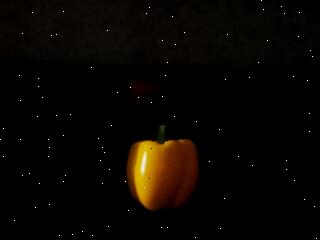Capsicum: (125, 123, 198, 214)
